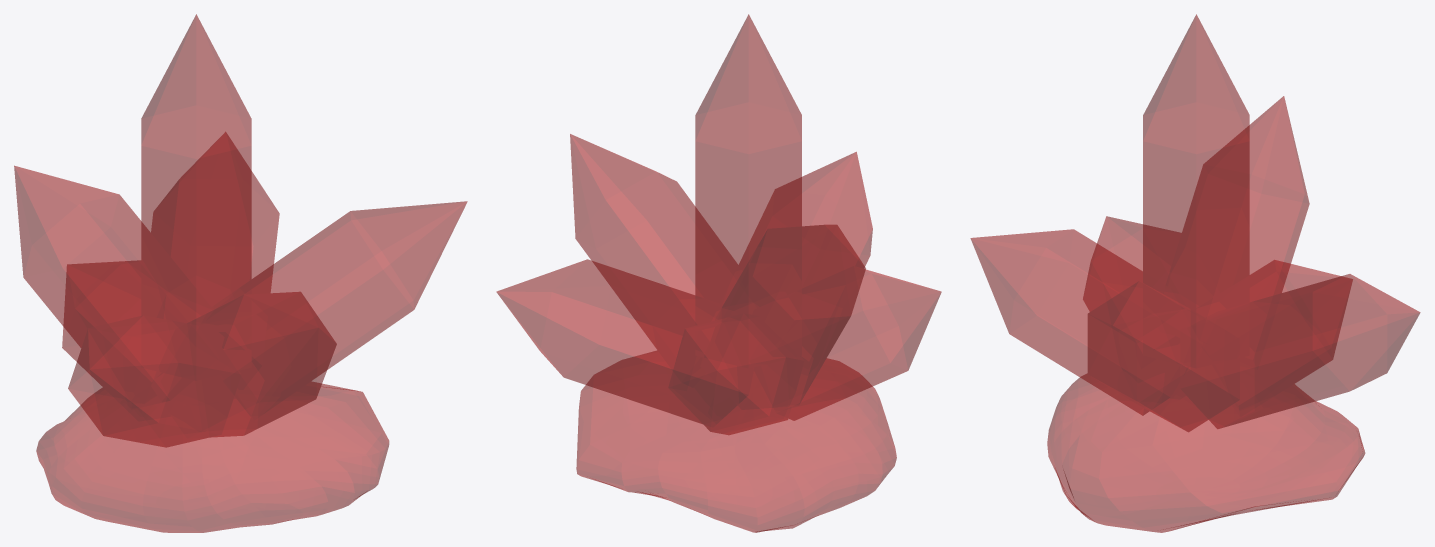
File: Cristal.fbx
3 views of the same model, side by side, from view 1: azimuth 30°, elevation 25°; view 2: azimuth 150°, elevation 25°; view 3: azimuth 270°, elevation 25° (orthographic). The views are drawn at different scales.
Parts seen in each view (by area): view 1: pSphere1, pCylinder1, pCylinder5, pCylinder2, pCylinder6, pCylinder3, pCylinder4, pCylinder7; view 2: pSphere1, pCylinder1, pCylinder4, pCylinder5, pCylinder2, pCylinder3, pCylinder7, pCylinder6; view 3: pSphere1, pCylinder1, pCylinder4, pCylinder6, pCylinder2, pCylinder5, pCylinder7, pCylinder3.
Boxes of the visible parts, x1=… form: pSphere1: x1=36, y1=381, x2=389, y2=532; pCylinder1: x1=141, y1=14, x2=251, y2=380; pCylinder5: x1=212, y1=201, x2=467, y2=419; pCylinder2: x1=14, y1=165, x2=213, y2=409; pCylinder6: x1=151, y1=291, x2=336, y2=438; pCylinder3: x1=68, y1=315, x2=241, y2=447; pCylinder4: x1=151, y1=132, x2=279, y2=309; pCylinder7: x1=62, y1=260, x2=141, y2=402; pSphere1: x1=576, y1=351, x2=896, y2=532; pCylinder1: x1=695, y1=14, x2=801, y2=367; pCylinder4: x1=496, y1=259, x2=753, y2=423; pCylinder5: x1=570, y1=134, x2=738, y2=370; pCylinder2: x1=701, y1=224, x2=865, y2=409; pCylinder3: x1=754, y1=266, x2=941, y2=420; pCylinder7: x1=668, y1=313, x2=803, y2=434; pCylinder6: x1=720, y1=152, x2=872, y2=303; pSphere1: x1=1047, y1=374, x2=1365, y2=532; pCylinder1: x1=1143, y1=14, x2=1249, y2=367; pCylinder4: x1=1180, y1=274, x2=1420, y2=428; pCylinder6: x1=970, y1=229, x2=1188, y2=415; pCylinder2: x1=1163, y1=96, x2=1309, y2=319; pCylinder5: x1=1087, y1=281, x2=1239, y2=431; pCylinder7: x1=1197, y1=260, x2=1352, y2=410; pCylinder3: x1=1083, y1=216, x2=1181, y2=311.
Bounding box in the file's own units: 6.91 × 8.53 × 7.31.
